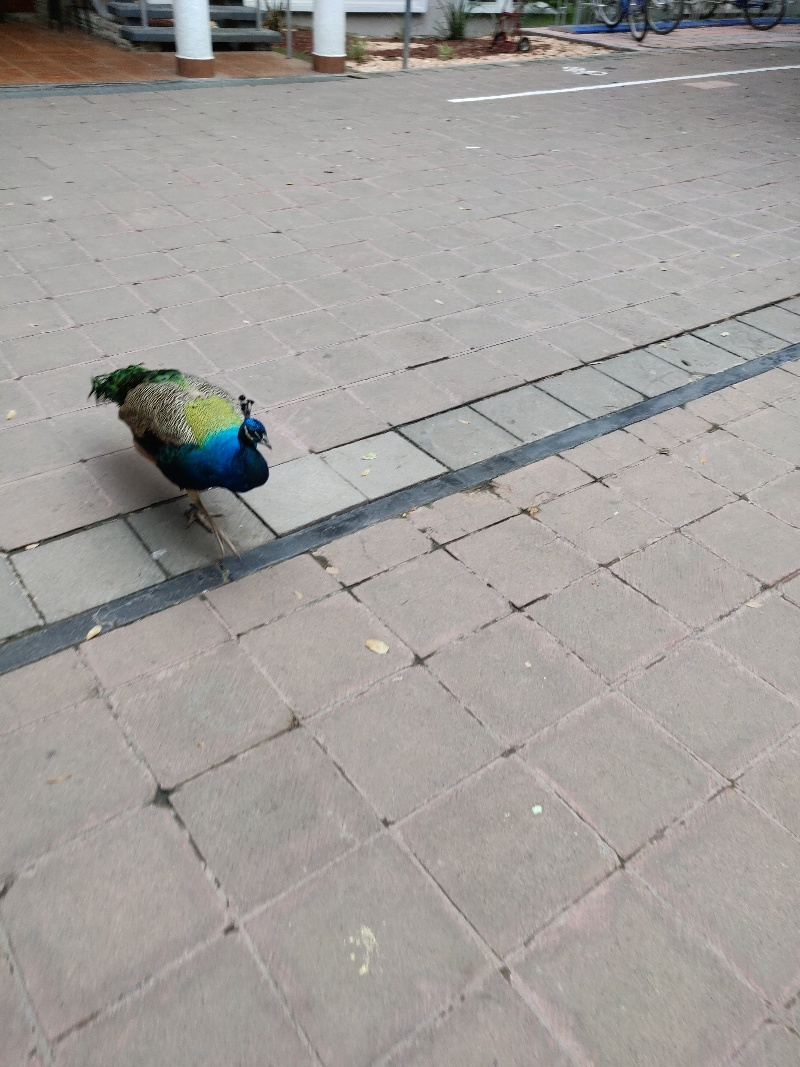pavoreal: (103, 332, 280, 576)
